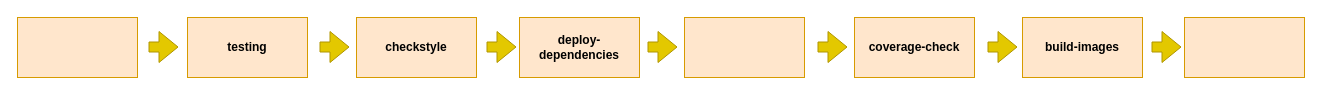
This 1322x95 diagram has some shape labels left out. The centre of each missing label's shape, as x and y in pixels:
"chekout" goes at pixel 77 47.
"deploy Kubernetes" goes at pixel 1244 47.
"PMD" goes at pixel 744 47.
